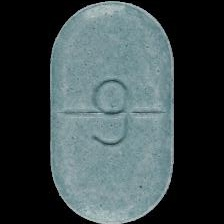61786-593: (0, 0, 224, 224)
